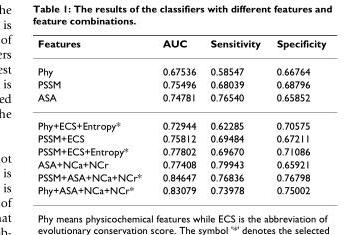table: (37, 36, 325, 195)
table column: (37, 36, 151, 195), (202, 36, 267, 195), (267, 36, 325, 195), (151, 36, 202, 195)
table column header: (37, 36, 325, 57)
table row: (37, 36, 325, 57), (37, 90, 325, 111), (37, 57, 325, 77), (37, 111, 325, 131), (37, 77, 325, 90), (37, 131, 325, 144), (37, 144, 325, 157), (37, 157, 325, 170), (37, 170, 325, 183), (37, 183, 325, 195)
